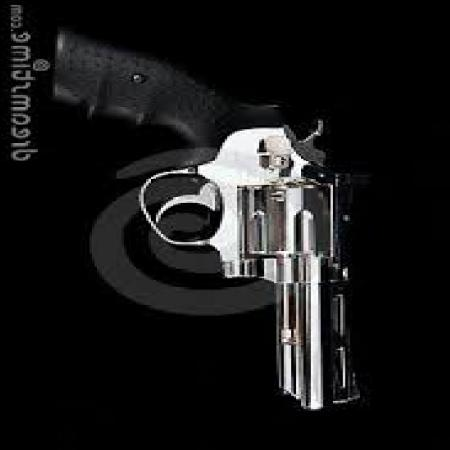Pistol: (49, 23, 366, 414)
